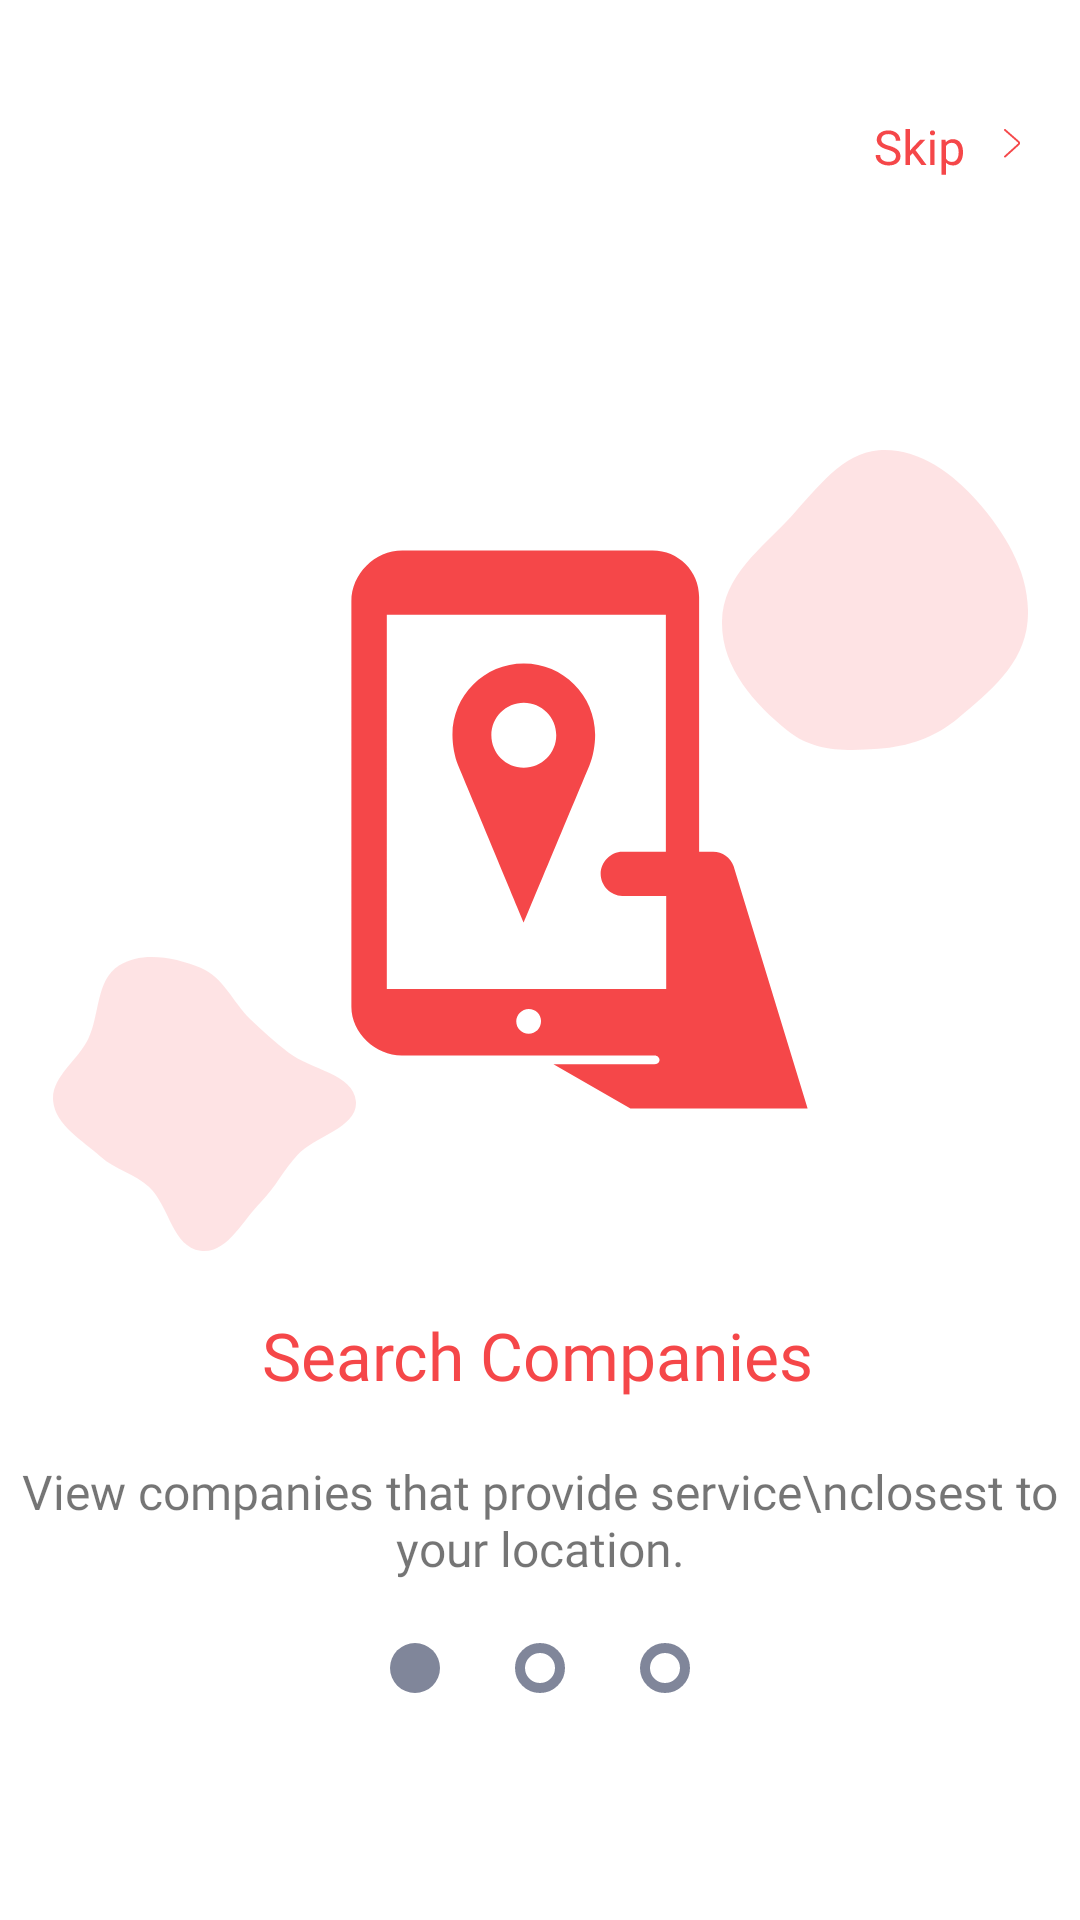

Screen size 1080w x 1920h. Icon name, then its box in pixels as (left=x1, top=y1, right=x2, bottom=y2):
dots: (left=390, top=1643, right=690, bottom=1693)
